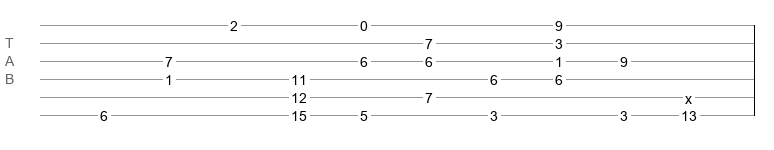0: (360, 18, 368, 28)
1: (165, 72, 173, 82), (555, 54, 563, 64)
11: (291, 72, 307, 82)
12: (291, 90, 307, 100)
13: (681, 108, 697, 118)
15: (291, 108, 307, 118)
2: (230, 18, 238, 28)
3: (490, 108, 498, 118), (555, 36, 563, 46), (620, 108, 628, 118)
5: (360, 108, 368, 118)
6: (100, 108, 108, 118), (360, 54, 368, 64), (425, 54, 433, 64), (490, 72, 498, 82), (555, 72, 563, 82)
7: (165, 54, 173, 64), (425, 90, 433, 100), (425, 36, 433, 46)
9: (555, 18, 563, 28), (620, 54, 628, 64)
x: (685, 91, 692, 99)
